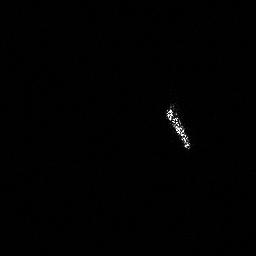ship: (161, 102, 193, 153)
